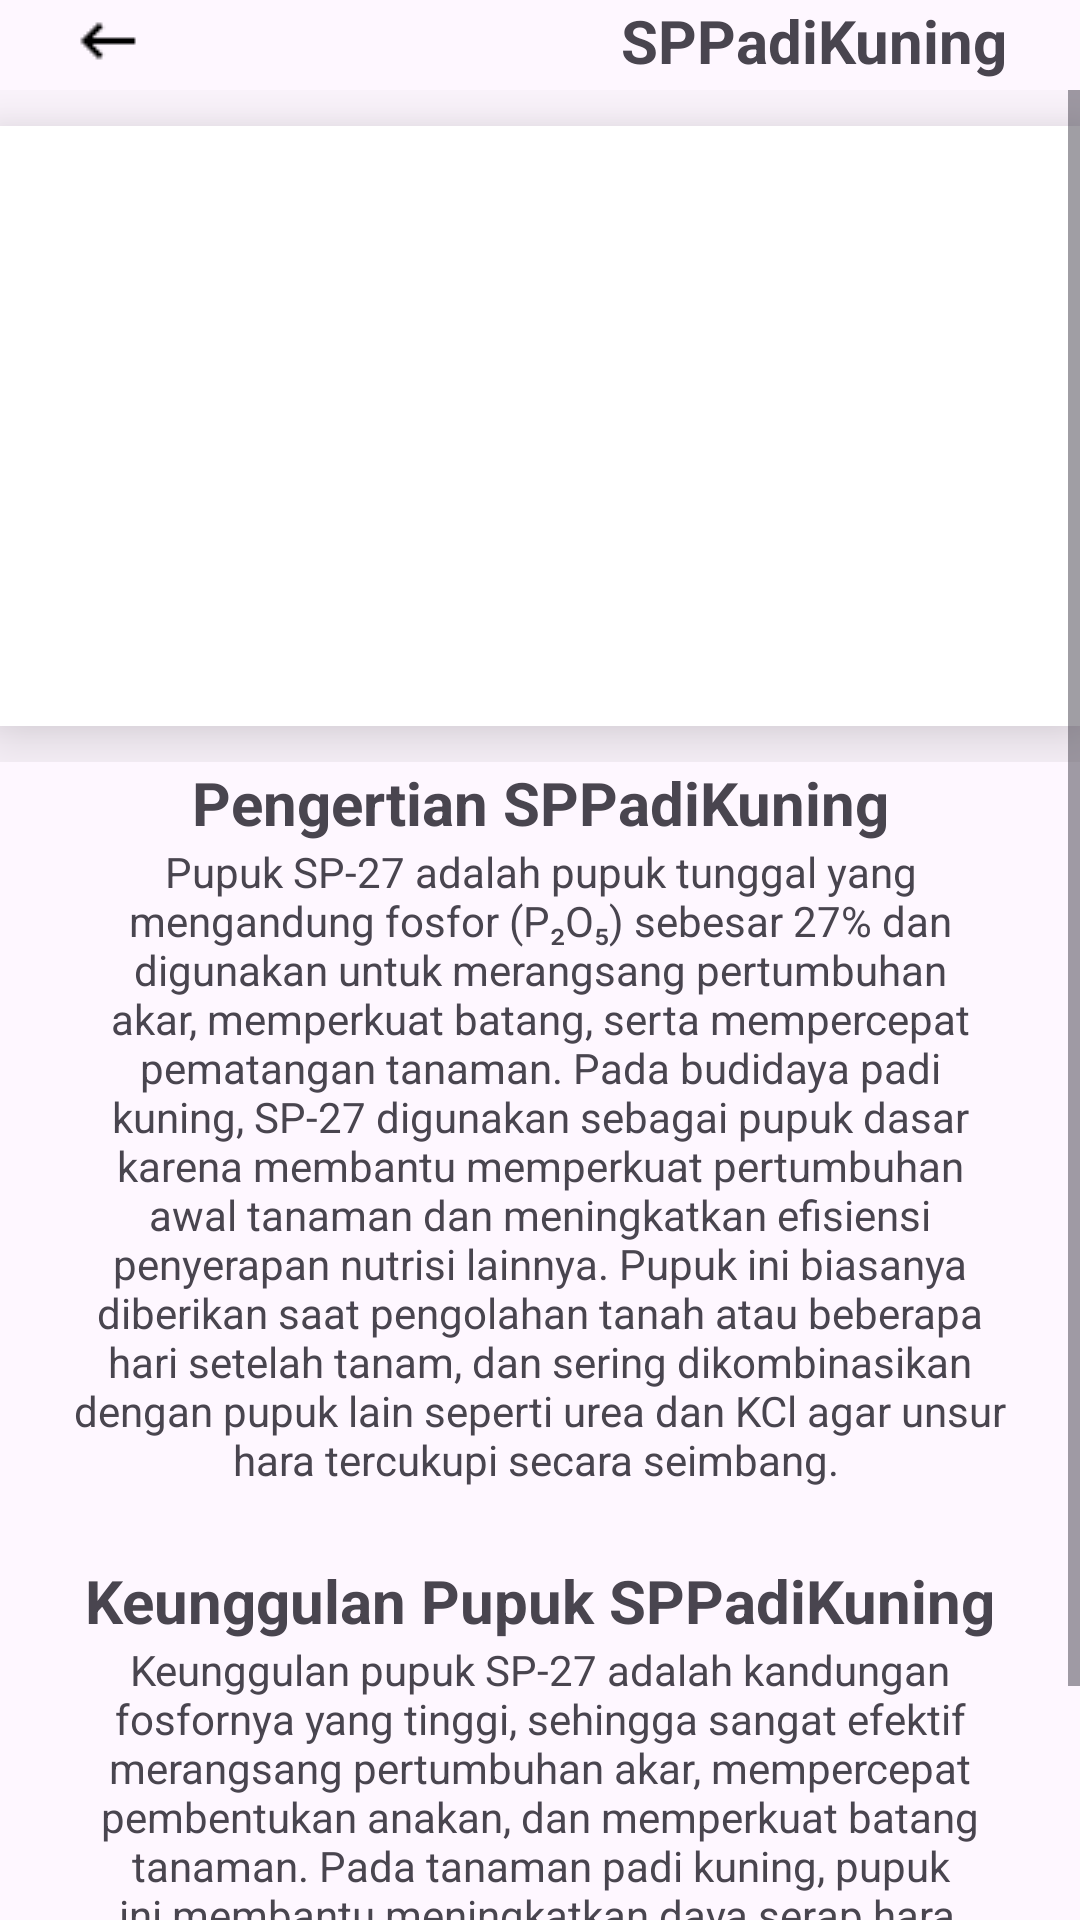

Icon bounding boxes for this 1080×1920 phone screenshot, format bbox=[x1, y1, x2, y2]:
keyboard backspace: bbox=[80, 22, 136, 60]
